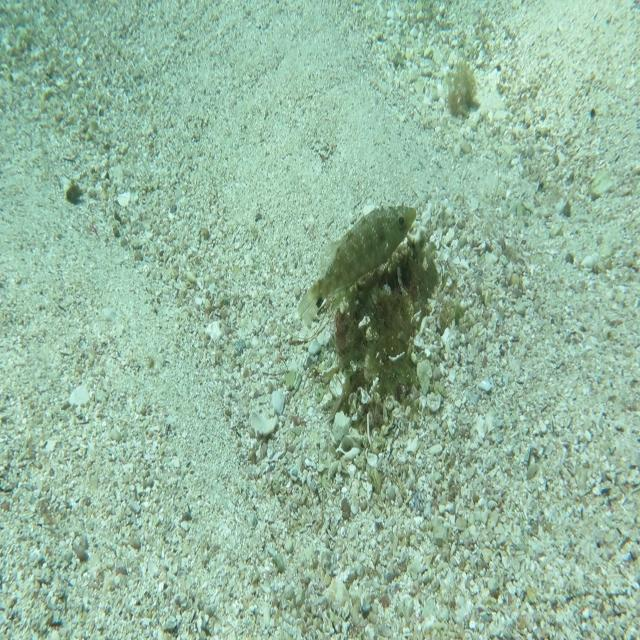FAN: (296, 202, 418, 330)
core_nest: (378, 264, 422, 306)
nest: (317, 216, 447, 424)
vegetation: (446, 56, 476, 124), (66, 177, 88, 209)
